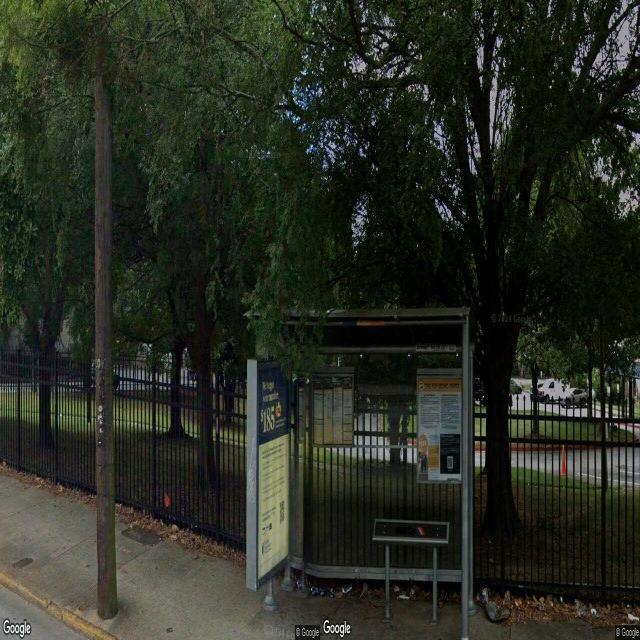seating: (371, 520, 451, 627)
shelter: (241, 312, 475, 640)
